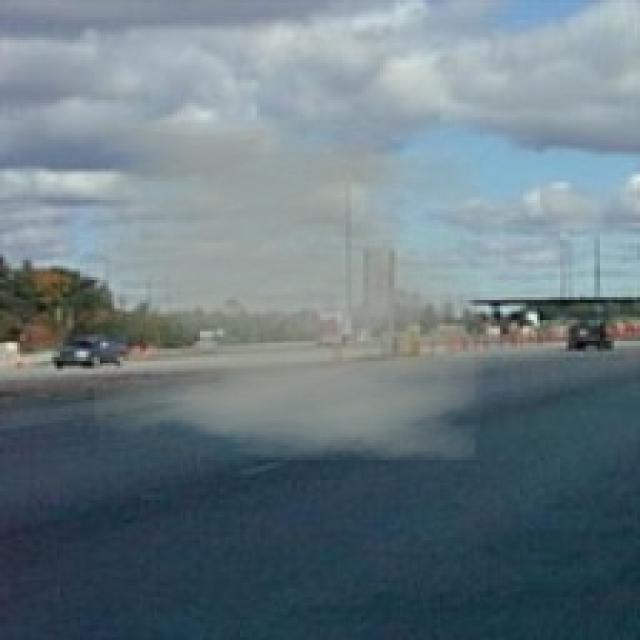smoke: (94, 117, 483, 460)
